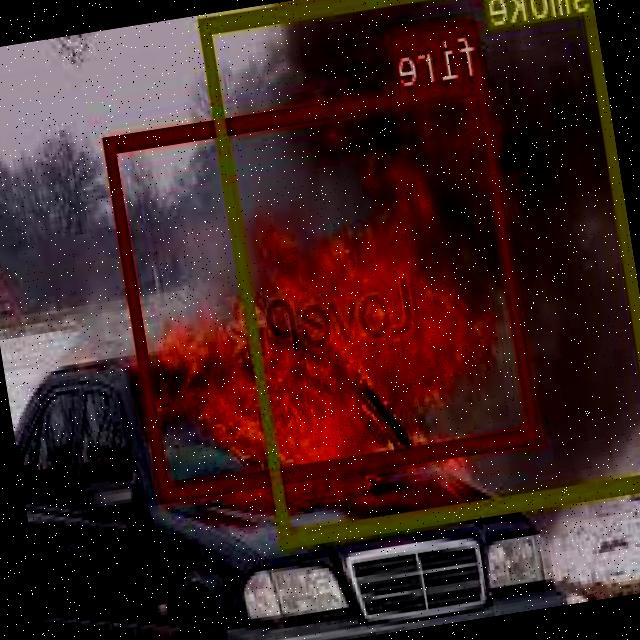fire: (106, 74, 543, 500)
smoke: (202, 0, 640, 543)
